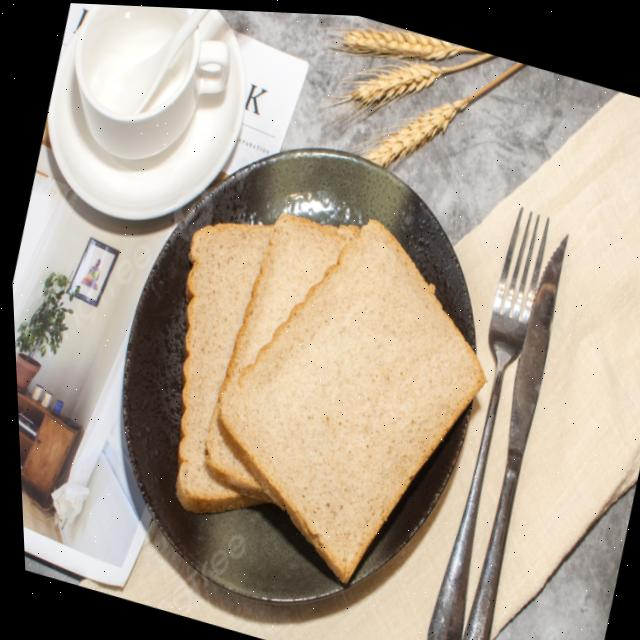Bread: (215, 215, 481, 578), (171, 221, 269, 511), (222, 210, 356, 376), (201, 404, 257, 495)
